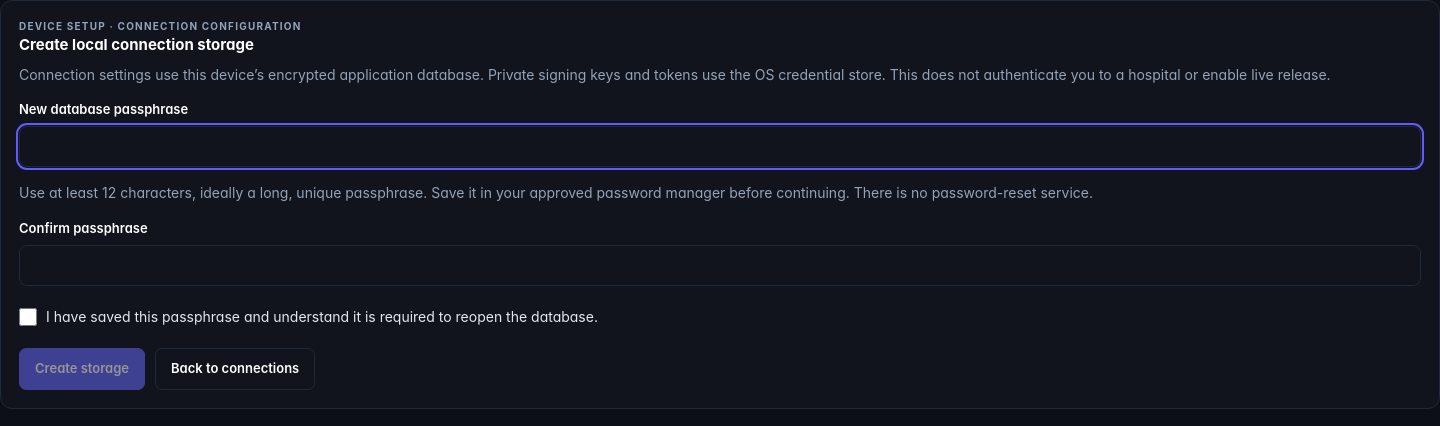
Test: requires confirmation and saved-key acknowledgment, then refuses changed storage
The width and height of the screenshot is (1440, 426).
Type "a-long-test-passphrase" into the password field labelled "New database passphrase". click: {"x": 720, "y": 147}
box: [19,126,1421,167]
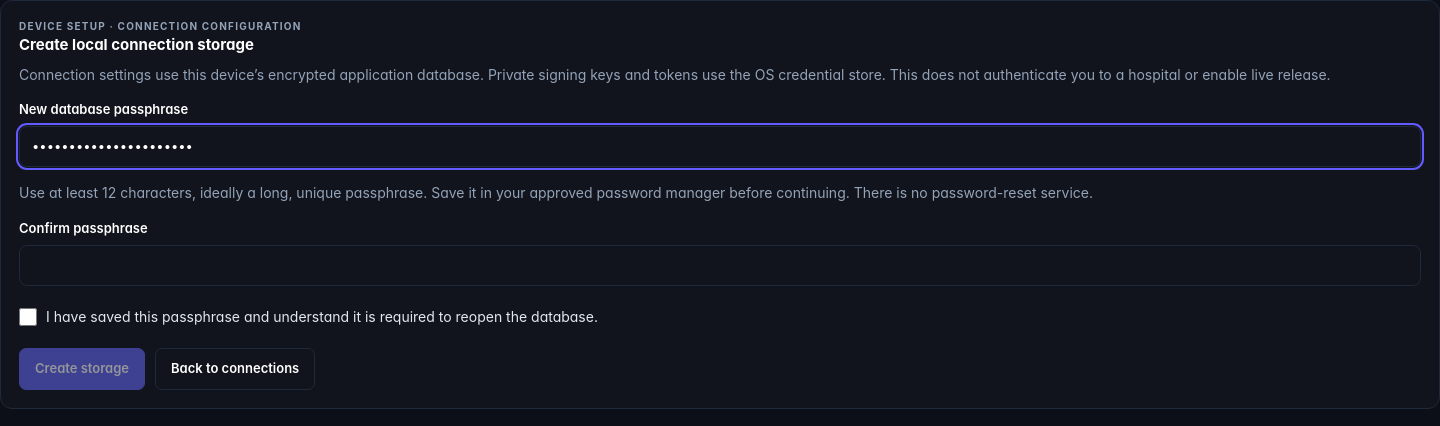
Type "a-long-test-passphrase" into the password field labelled "Confirm passphrase". click: {"x": 720, "y": 265}
box: [19,245,1421,286]
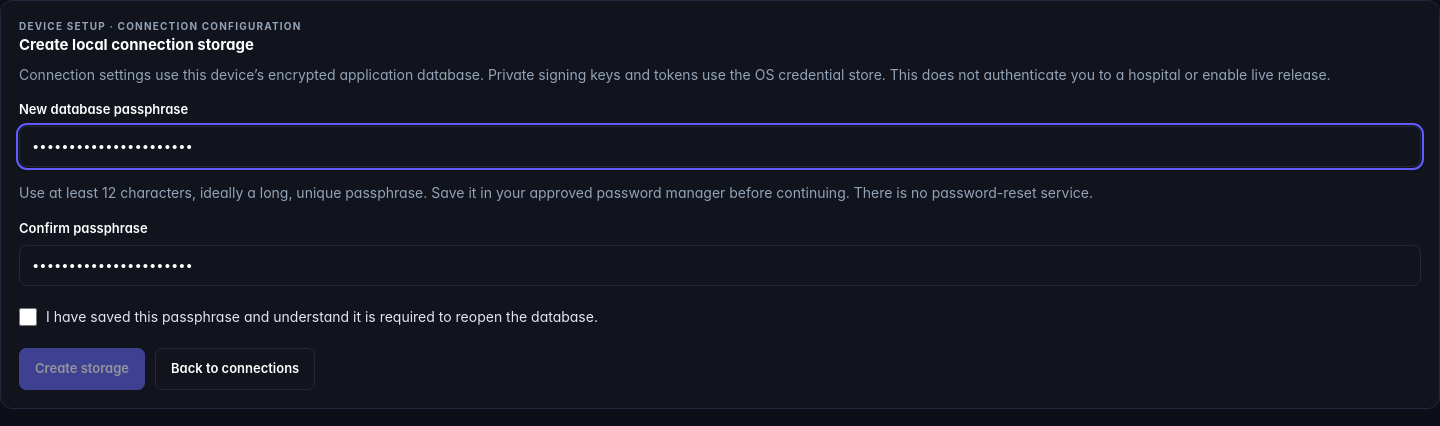
Expected: the button "Create storage" is disabled, [19,348,145,390]
Click the checkbox. click: {"x": 28, "y": 317}
box: [19,308,37,326]
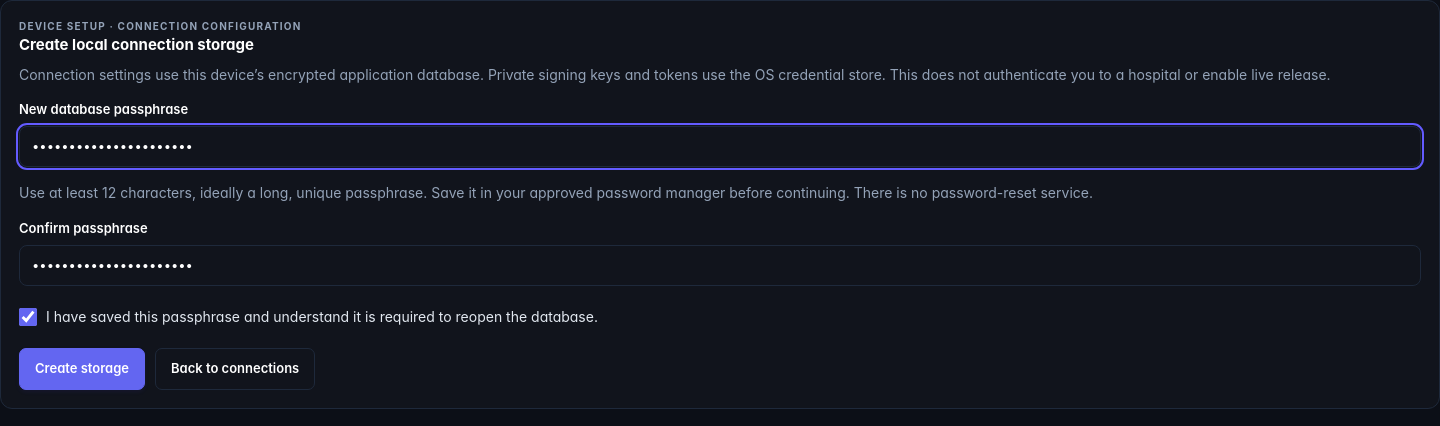
Click the button "Create storage". click: {"x": 82, "y": 369}
box: [19,348,145,390]
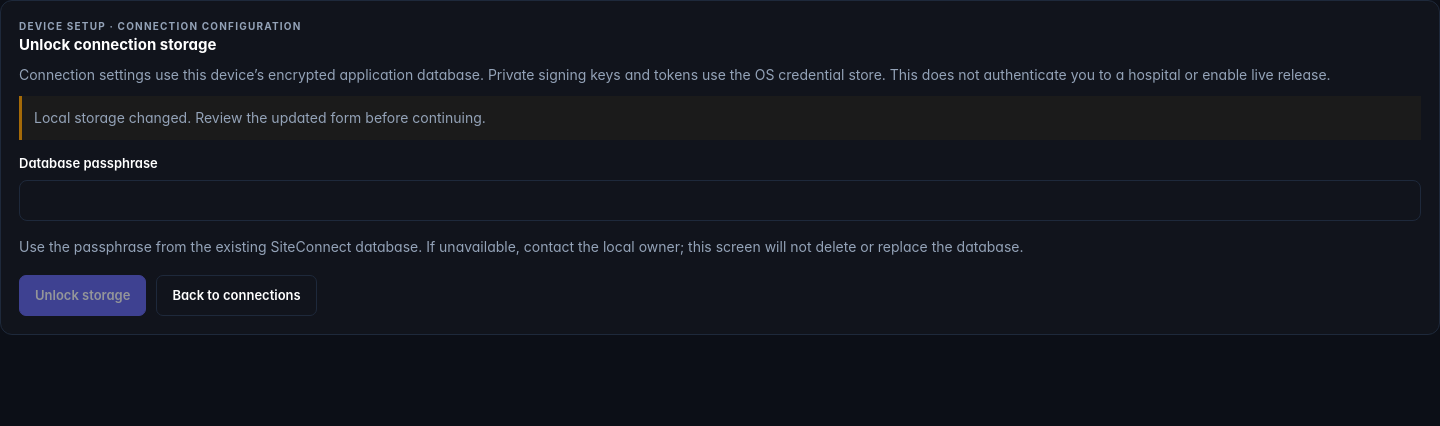
Expected: the text "Local storage changed. Review the updated form before continuing." is shown, [19,96,1421,140]
Expected: the password field labelled "Database passphrase" is empty, [19,180,1421,221]
